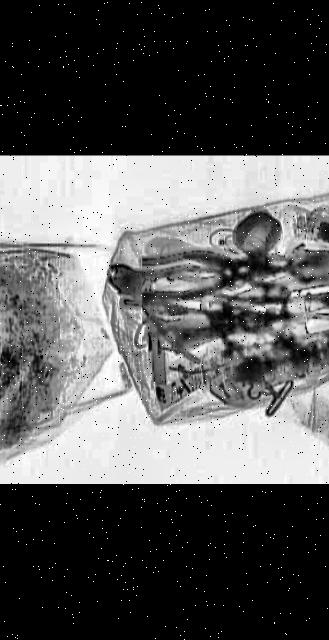Pliers: (58, 242, 281, 366), (134, 241, 302, 304)
